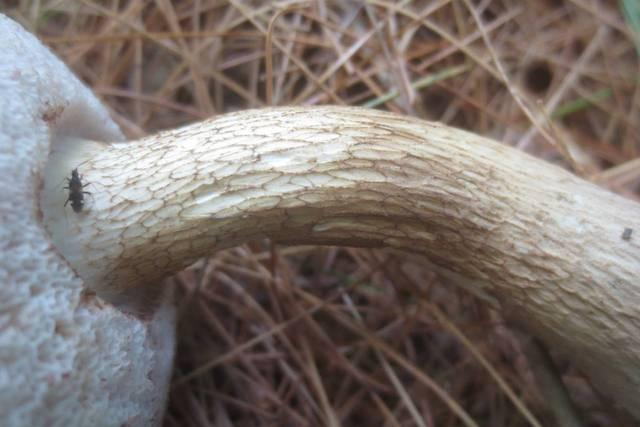Non-edible Mushroom: (1, 9, 638, 425)
